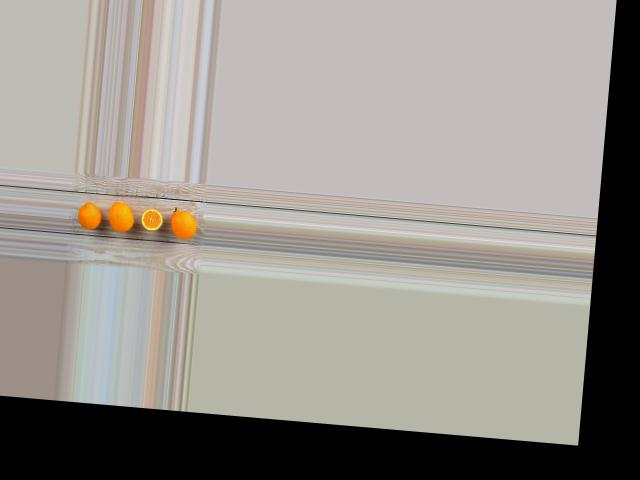lemon: (169, 205, 198, 240)
